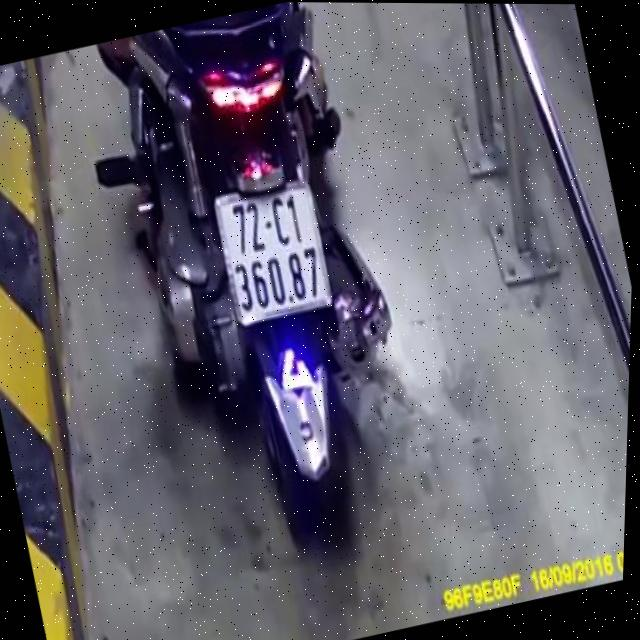motorcycle: (54, 1, 458, 569)
plate: (199, 170, 343, 334)
